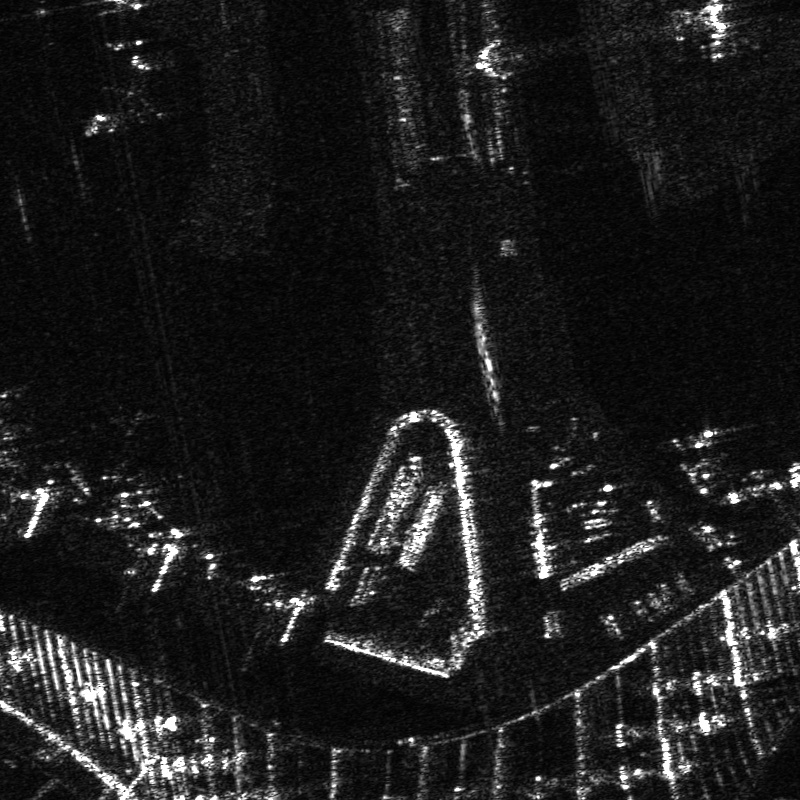Boeing787: (89, 52, 170, 136)
